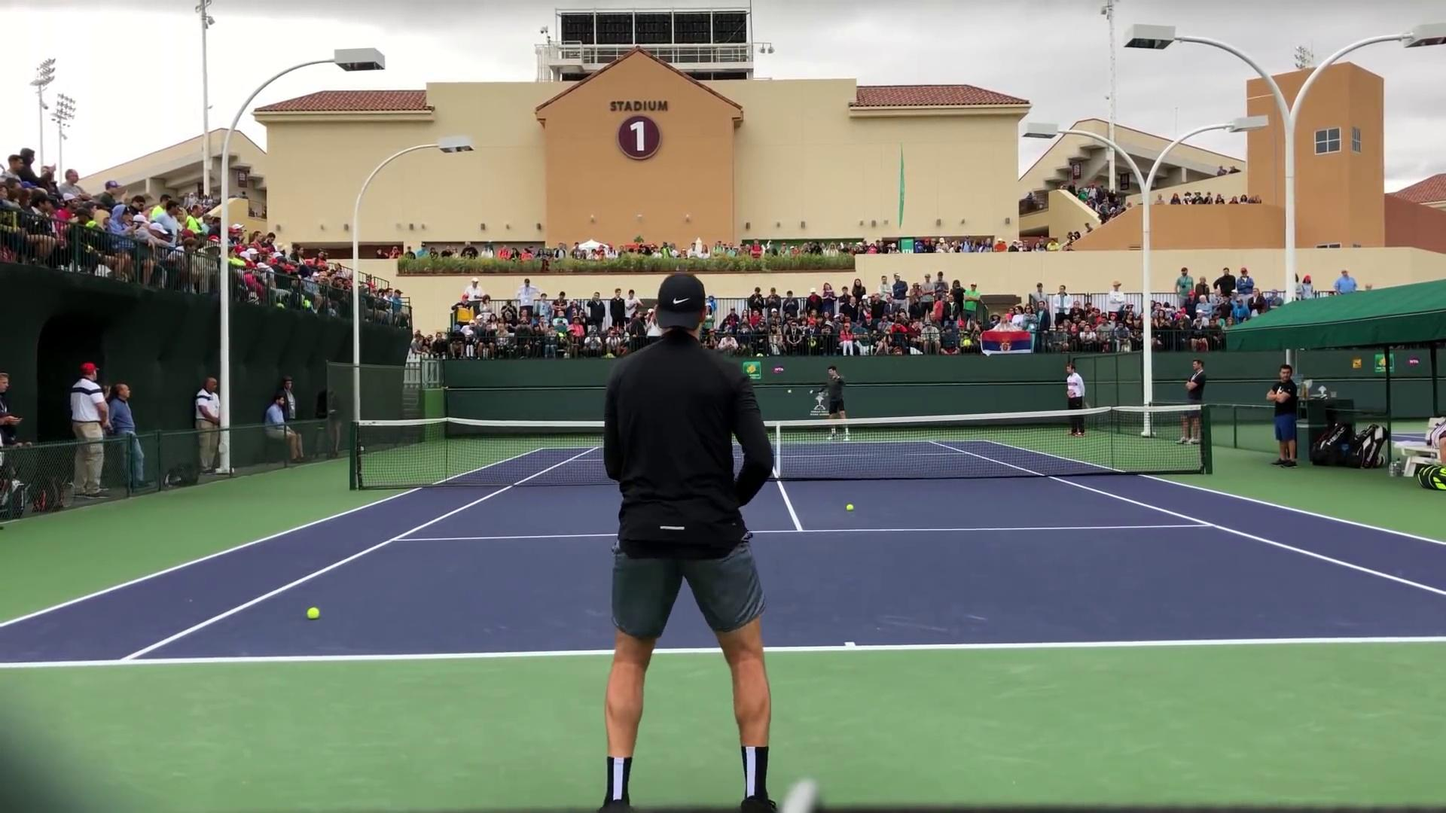ball: (307, 607, 319, 619), (845, 503, 853, 510), (787, 389, 792, 393)
